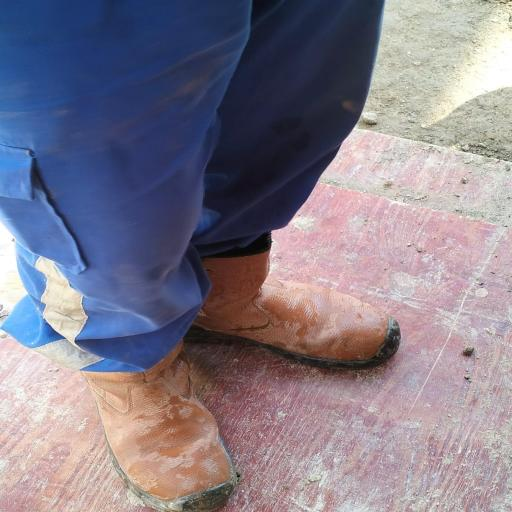safety_shoe: (180, 232, 402, 373), (66, 358, 238, 512)
